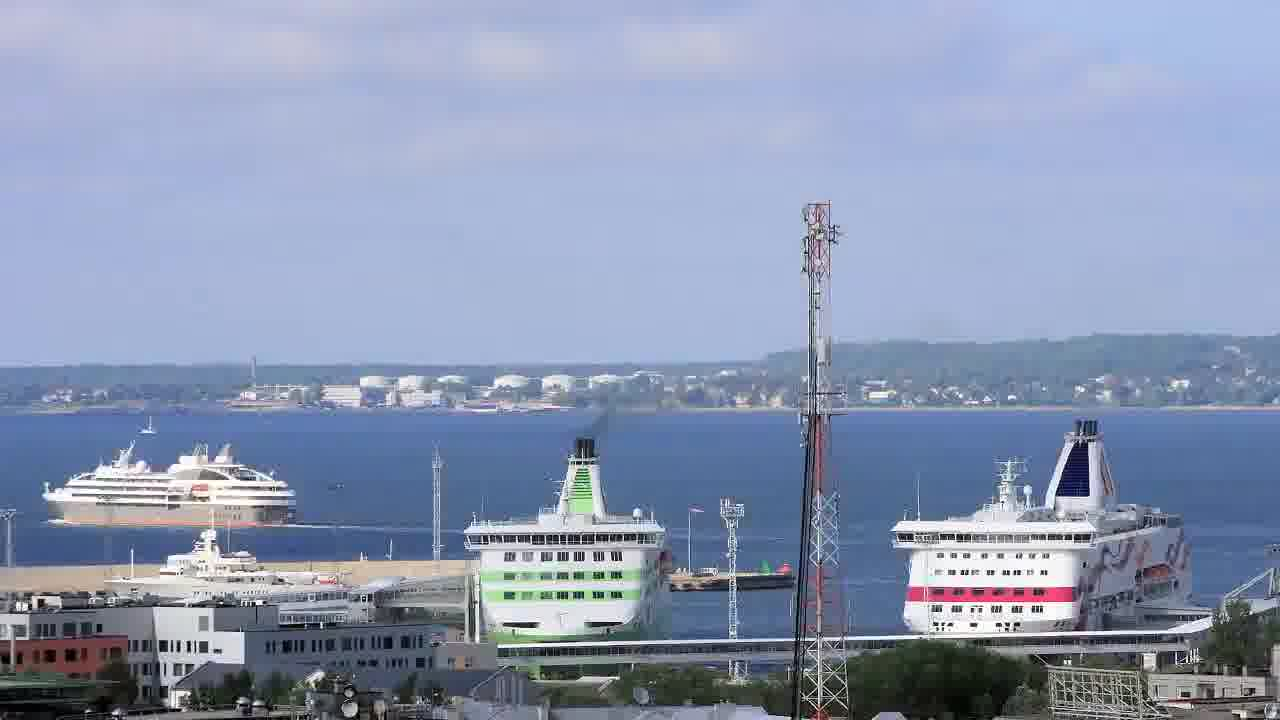type-2: (126, 399, 163, 446)
type-3: (868, 415, 1225, 638), (436, 434, 694, 670), (84, 511, 353, 609), (30, 449, 310, 543)
